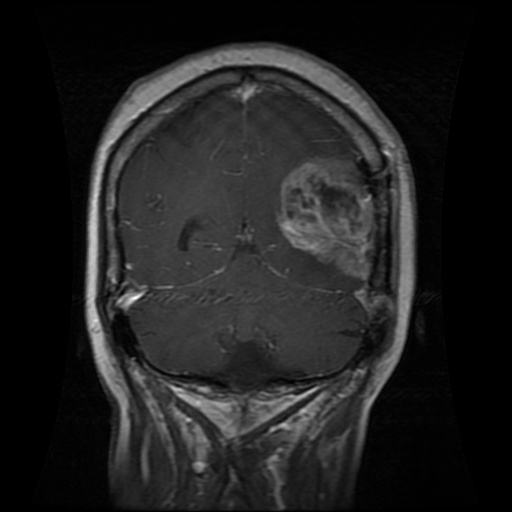glioma: (274, 155, 376, 282)
